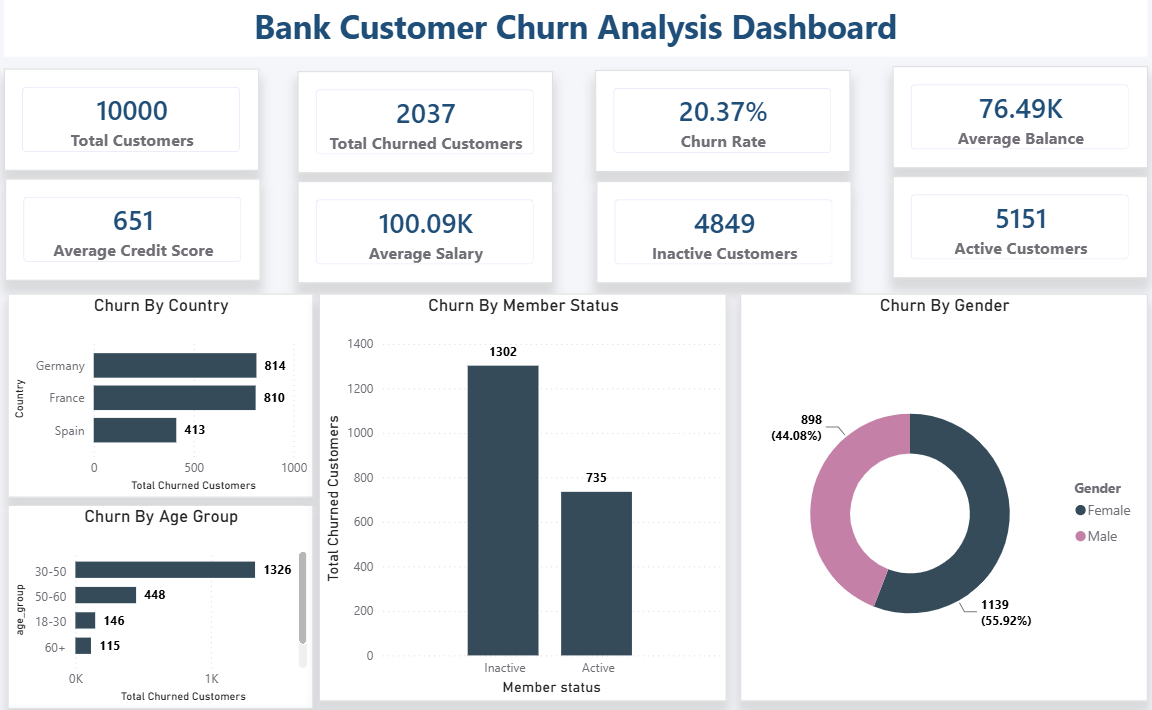

This screenshot's page, from the dashboard's own definition file:
{"tool":"powerbi","page":{"name":"Executive Dashboard","canvas":[1280,720],"ordinal":0},"visuals":[{"type":"cardVisual","fields":{"Data":["Bank Churn.Total Churned Customers"]},"box":[351.7,80.3,250,100],"z":0},{"type":"cardVisual","fields":{"Data":["Bank Churn.Total Customers"]},"box":[63.4,77,250,100],"z":1000},{"type":"cardVisual","fields":{"Data":["Bank Churn.Churn Rate"]},"box":[644.8,79.1,250,100],"z":2000},{"type":"cardVisual","fields":{"Data":["Bank Churn.Average Balance"]},"box":[936.6,75.2,250,100],"z":3000},{"type":"cardVisual","fields":{"Data":["Bank Churn.Average Salary"]},"box":[351.6,187.4,250,100],"z":4000},{"type":"cardVisual","fields":{"Data":["Bank Churn.Average Credit Score"]},"box":[64.4,185.4,250,100],"z":5000},{"type":"cardVisual","fields":{"Data":["Bank Churn.Inactive Customers"]},"box":[646,187.4,250,100],"z":6000},{"type":"cardVisual","fields":{"Data":["Bank Churn.Active Customers"]},"box":[936.4,183.3,250,100],"z":7000},{"type":"textbox","box":[63.9,8.3,1122.2,56.9],"z":8000},{"type":"clusteredBarChart","title":"Churn By Country","fields":{"Category":["Bank Churn.country"],"Y":["Bank Churn.Total Churned Customers"]},"box":[67.5,298.5,300,200],"z":9000},{"type":"clusteredBarChart","title":"Churn By Age Group","fields":{"Y":["Bank Churn.Total Churned Customers"],"Category":["Bank Churn.age_group"]},"box":[67.9,505.1,300,200],"z":10000},{"type":"donutChart","title":"Churn By Gender","fields":{"Y":["Bank Churn.Total Churned Customers"],"Category":["Bank Churn.gender"]},"box":[785.9,298.7,400,400],"z":11000},{"type":"clusteredColumnChart","title":"Churn By Member Status","fields":{"Y":["Bank Churn.Total Churned Customers"],"Category":["Bank Churn.Member status"]},"box":[373.1,298.7,400,400],"z":12000}]}

Visuals, with their boxes on the page's 1280x720 design canvas (x1, y1, x2, y2). These are canvas units, not pixel positions in the 1152x710 screenshot, which may show the page scaled, cropped or inside an application window:
cardVisual - Bank Churn.Total Churned Customers: [x1=352, y1=80, x2=602, y2=180]
cardVisual - Bank Churn.Total Customers: [x1=63, y1=77, x2=313, y2=177]
cardVisual - Bank Churn.Churn Rate: [x1=645, y1=79, x2=895, y2=179]
cardVisual - Bank Churn.Average Balance: [x1=937, y1=75, x2=1187, y2=175]
cardVisual - Bank Churn.Average Salary: [x1=352, y1=187, x2=602, y2=287]
cardVisual - Bank Churn.Average Credit Score: [x1=64, y1=185, x2=314, y2=285]
cardVisual - Bank Churn.Inactive Customers: [x1=646, y1=187, x2=896, y2=287]
cardVisual - Bank Churn.Active Customers: [x1=936, y1=183, x2=1186, y2=283]
textbox: [x1=64, y1=8, x2=1186, y2=65]
"Churn By Country" clusteredBarChart: [x1=68, y1=298, x2=368, y2=498]
"Churn By Age Group" clusteredBarChart: [x1=68, y1=505, x2=368, y2=705]
"Churn By Gender" donutChart: [x1=786, y1=299, x2=1186, y2=699]
"Churn By Member Status" clusteredColumnChart: [x1=373, y1=299, x2=773, y2=699]
